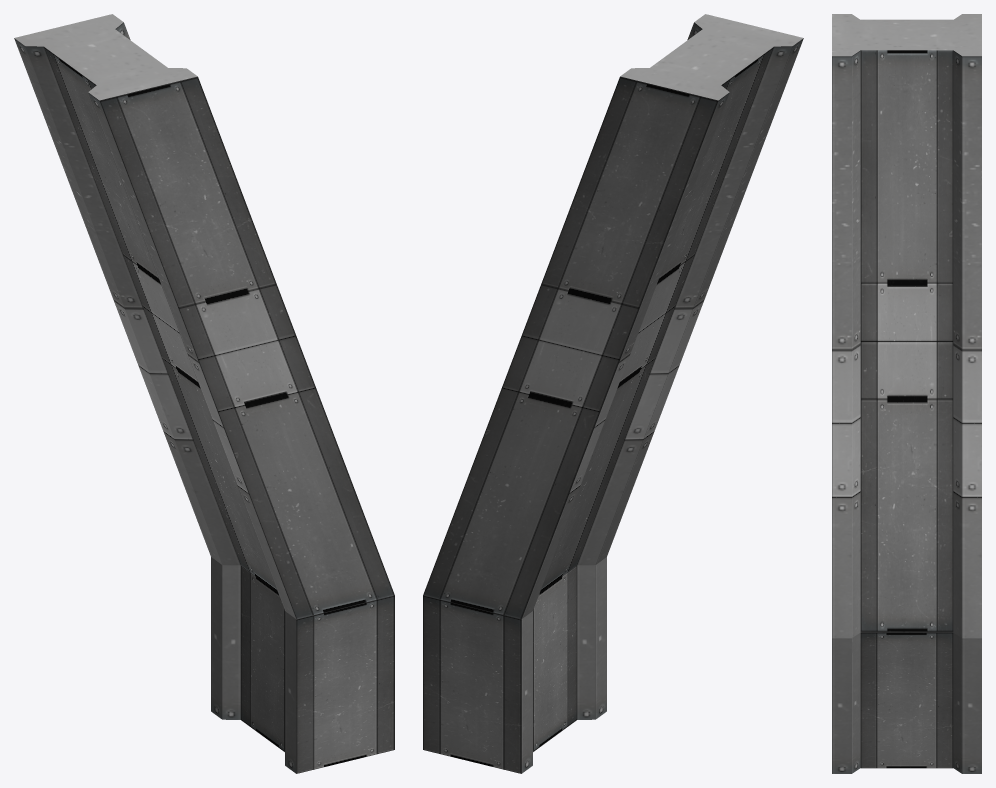
The model's file is Pylon_Vert_01.FBX.
3 renders of one model, left to right at view 1: azimuth 30°, elevation 25°; view 2: azimuth 150°, elevation 25°; view 3: azimuth 270°, elevation 25°, orthographic. The views are drawn at different scales.
Parts seen in each view (by area): view 1: Pylon_Vert_01; view 2: Pylon_Vert_01; view 3: Pylon_Vert_01.
Boxes of the visible parts, bbox=[...] form: Pylon_Vert_01: bbox=[14, 14, 394, 773]; Pylon_Vert_01: bbox=[423, 14, 803, 773]; Pylon_Vert_01: bbox=[832, 14, 981, 773].
Size of the model in its own units: 60 by 140 by 30.03.
